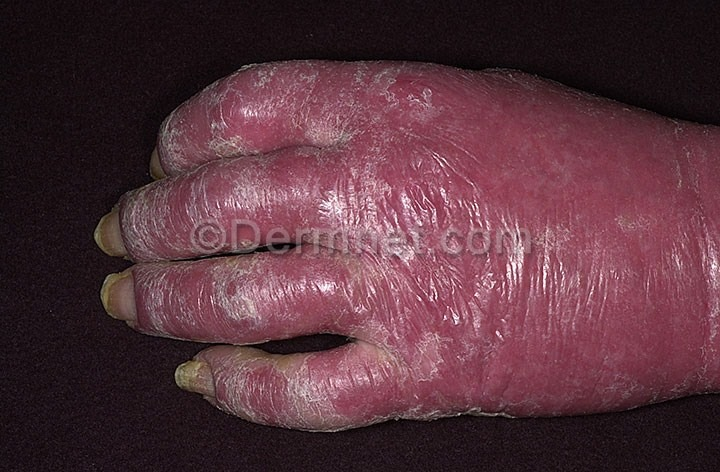Psoriasis: (332, 116, 703, 393), (136, 163, 348, 241), (136, 263, 332, 328), (206, 362, 347, 428), (193, 80, 329, 144)
